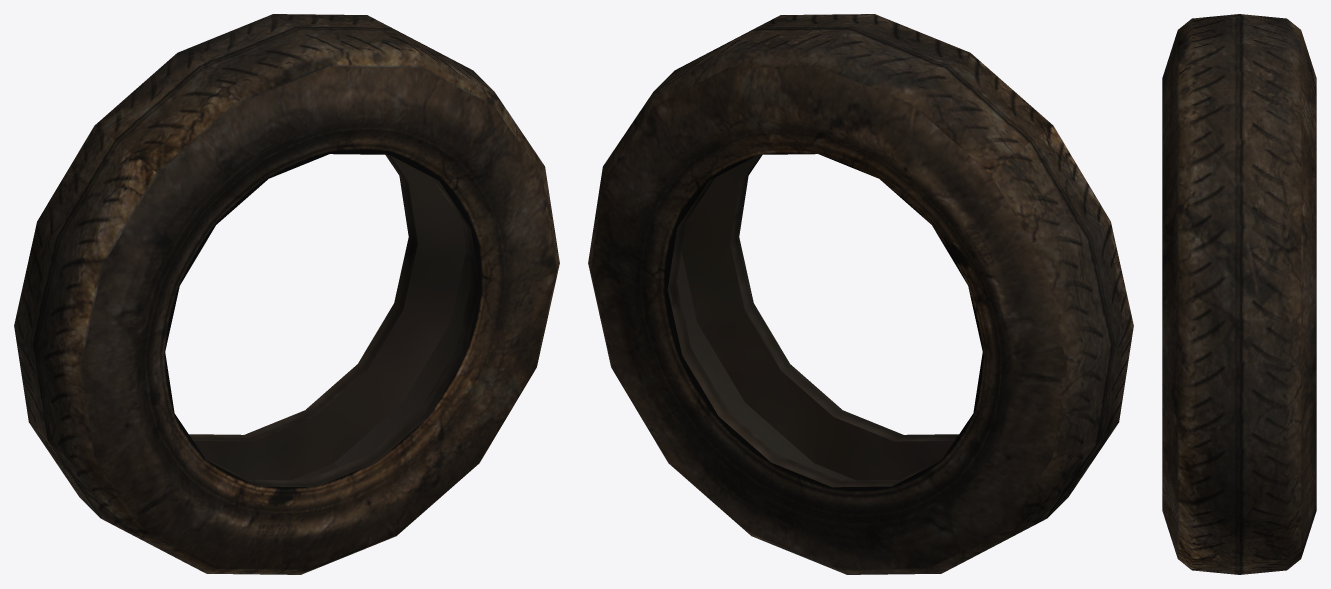
The model's file is wheel.FBX.
3 views of the same model, side by side, from view 1: azimuth 30°, elevation 25°; view 2: azimuth 150°, elevation 25°; view 3: azimuth 270°, elevation 25° (orthographic). The views are drawn at different scales.
Visible parts, largest first — view 1: wheel; view 2: wheel; view 3: wheel.
Part boxes in pixels (left/top/right/bottom): wheel: left=14, top=14, right=559, bottom=574; wheel: left=588, top=14, right=1133, bottom=574; wheel: left=1162, top=14, right=1316, bottom=574.
Bounding box in the file's own units: 0.6039 × 0.6039 × 0.1653.
